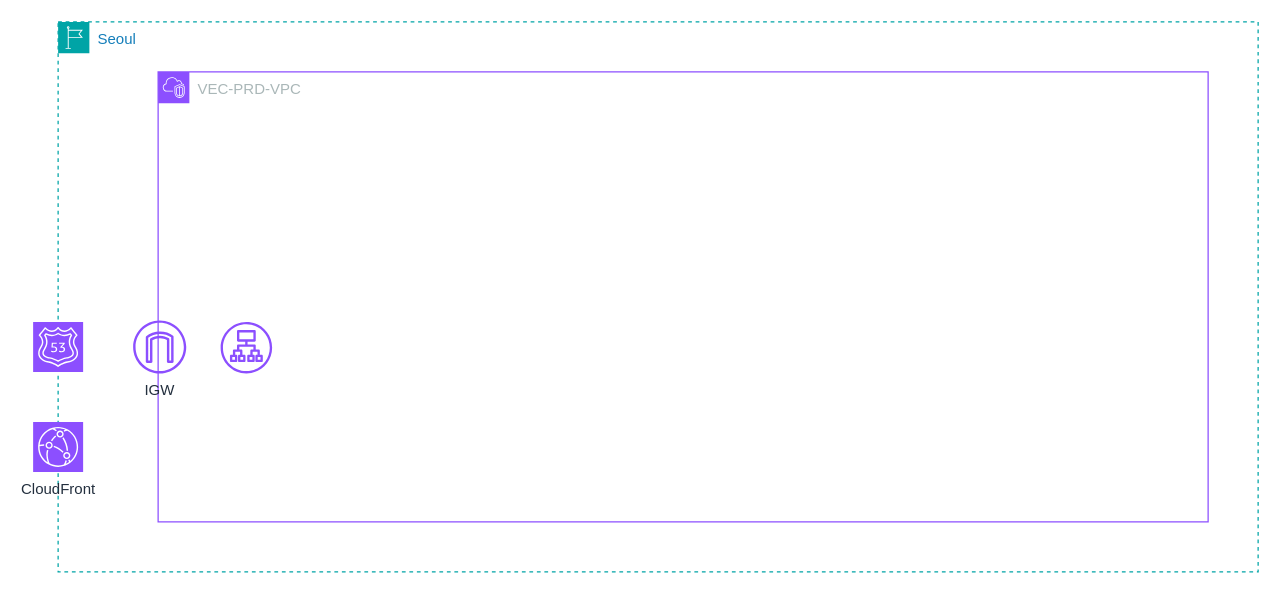
The diagram is 1280 pixels wide and 594 high, and some of its shapes have lost their labels. Each missing label, with the centre of its shape:
ALB: point 246,347
Route 53: point 57,346
